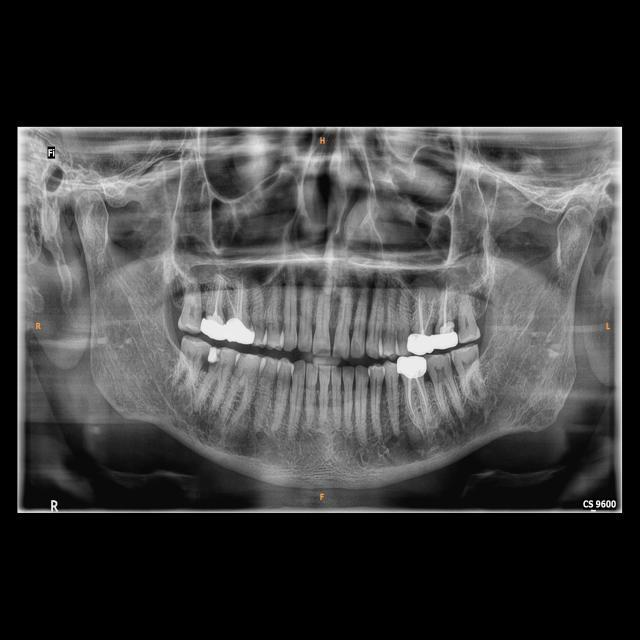dolgu: (204, 343, 228, 370)
kanal-tedavisi: (202, 280, 230, 320), (402, 379, 430, 418), (413, 290, 437, 332), (228, 278, 248, 318), (440, 282, 456, 330)
kaplama: (224, 312, 256, 346), (394, 352, 428, 378), (198, 314, 226, 342), (408, 326, 434, 356), (434, 327, 460, 350)
